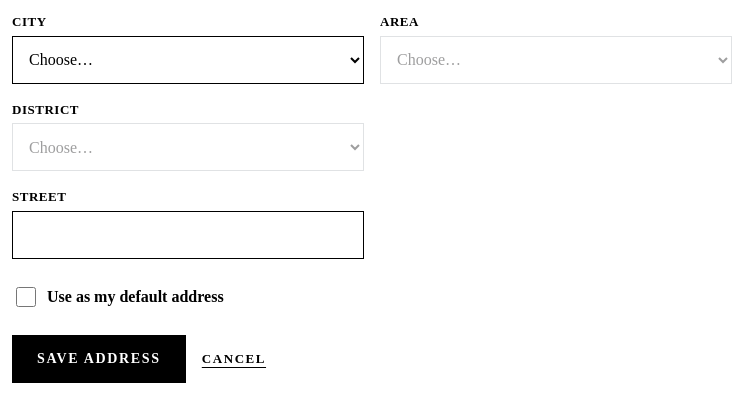
Test: AddressForm › shows only the levels the API lists, and feeds each from the one above
The image size is (749, 400).
Expected: the dropdown with test id "address-area" is disabled, 380,36 -> 732,84
Select "Cairo" in the dropdown with test id "address-city" at point(188, 60), box 12,36 -> 364,84
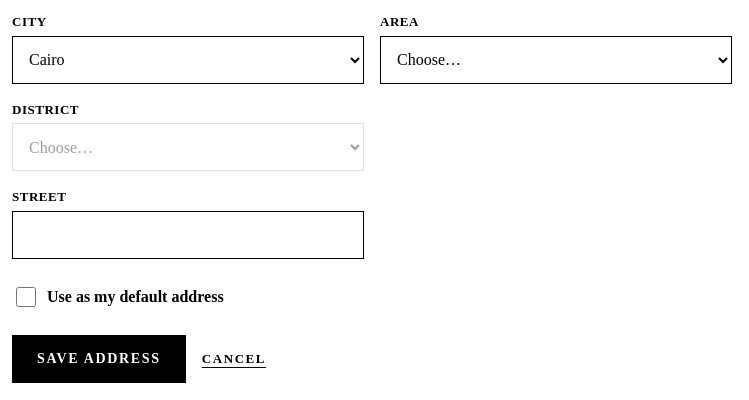
Select "Nasr City" in the dropdown with test id "address-area" at point(556, 60), box 380,36 -> 732,84
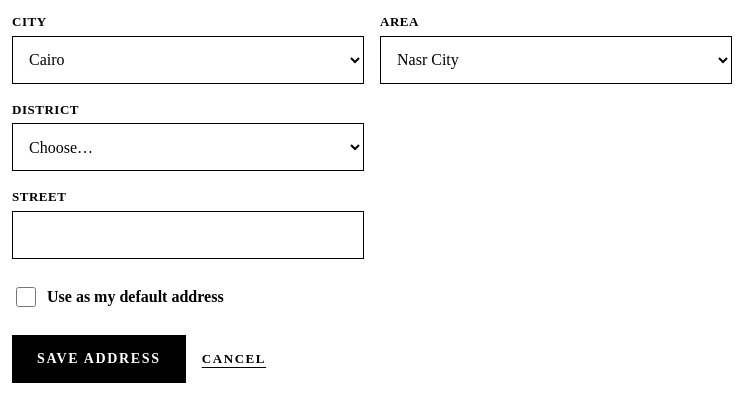
Select "District 7" in the dropdown with test id "address-district" at point(188, 147), box 12,123 -> 364,171
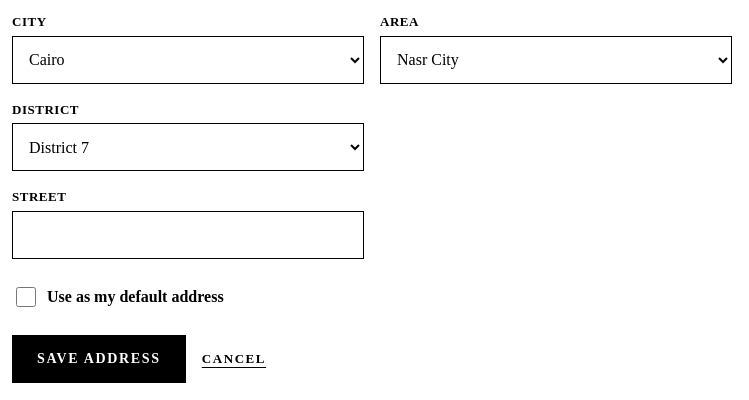
# a new city clears the levels below it
Select "Maadi" in the dropdown with test id "address-area" at point(556, 60), box 380,36 -> 732,84
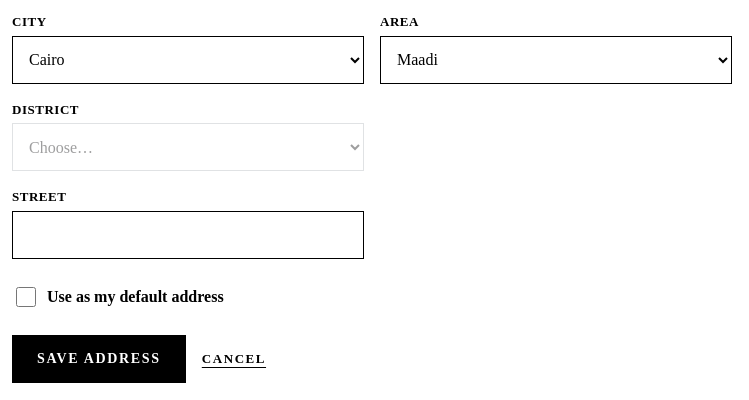
Expected: the dropdown with test id "address-district" is disabled, 12,123 -> 364,171
